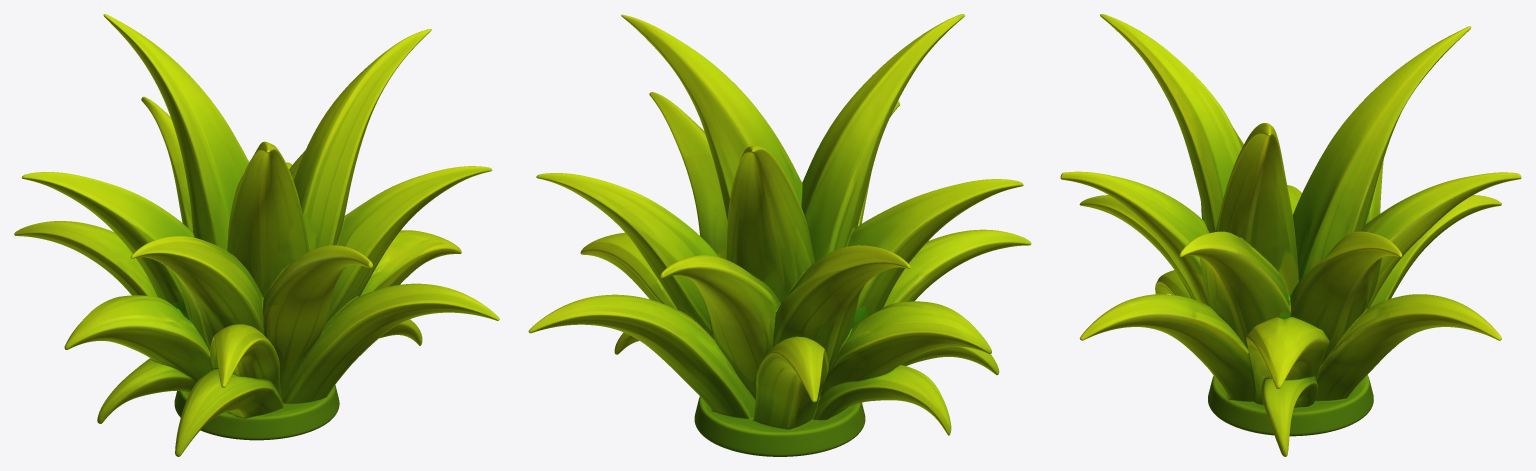
Rendered from Meshy_AI_Emerald_Rosette_0603223605_texture.fbx.
3 views of the same model, side by side, from view 1: azimuth 30°, elevation 25°; view 2: azimuth 150°, elevation 25°; view 3: azimuth 270°, elevation 25° (orthographic). The views are drawn at different scales.
Parts seen in each view (by area): view 1: Mesh_0; view 2: Mesh_0; view 3: Mesh_0.
Boxes of the visible parts, box(x1,y1,x2,y2) form: Mesh_0: box(14, 14, 499, 456); Mesh_0: box(528, 14, 1031, 456); Mesh_0: box(1060, 14, 1521, 456).
Bounding box in the file's own units: 189 × 158 × 189.
Materials: 1 (1 with a texture image).
